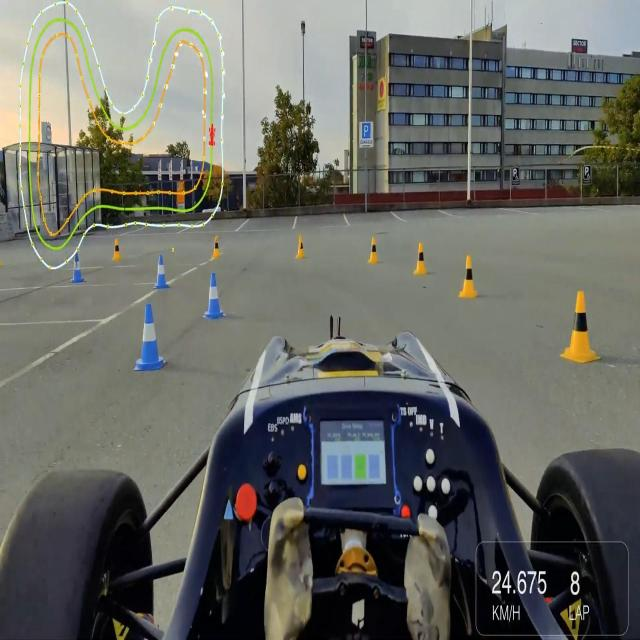blue_cone: (131, 300, 166, 382), (199, 268, 228, 325), (150, 257, 172, 292), (72, 250, 84, 284)
yellow_cone: (551, 284, 603, 369), (454, 250, 482, 303), (403, 234, 430, 280), (364, 231, 384, 278), (207, 232, 222, 262), (294, 232, 308, 261), (111, 236, 121, 261)
